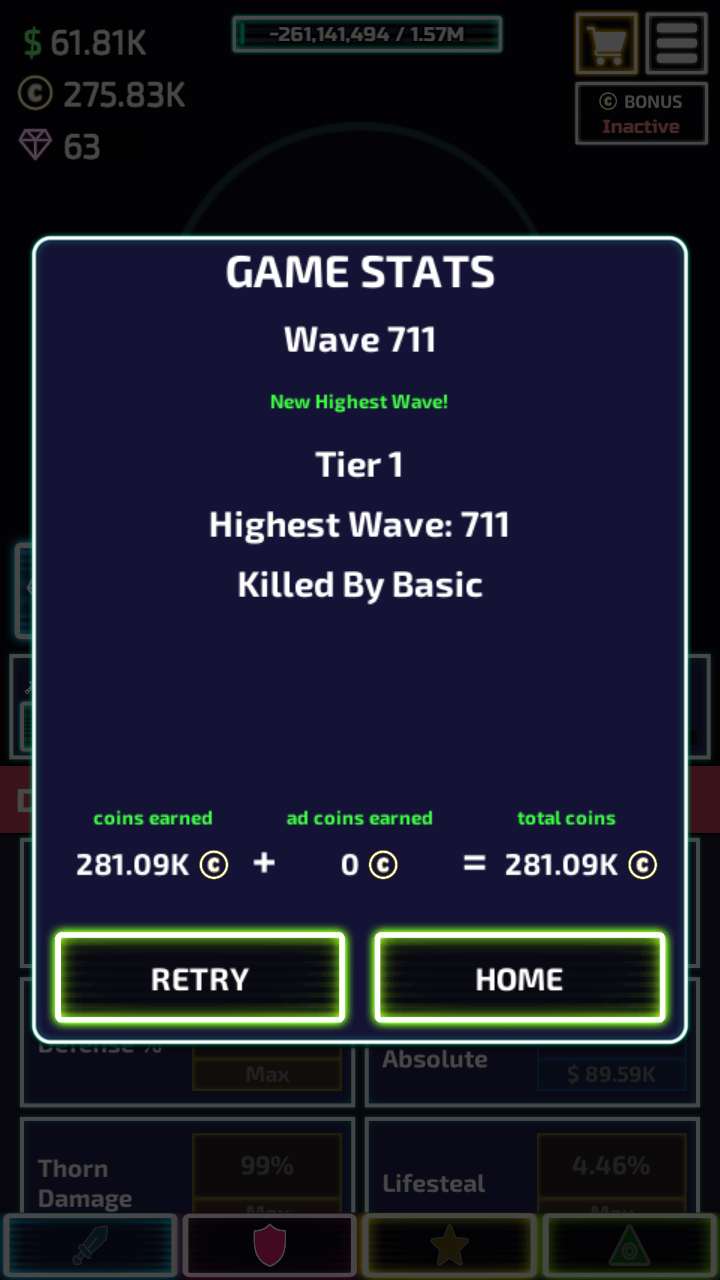B_Game_Over_Home: (372, 920, 666, 1027)
B_Game_Over_Retry: (53, 926, 347, 1022)
B_Gem_Ad: (7, 532, 36, 643)
B_Menu_Closed: (575, 12, 705, 73)
B_Slot: (363, 1114, 698, 1211), (21, 1123, 347, 1211), (365, 1034, 703, 1106), (16, 1038, 356, 1106)
B_Slot_Button: (536, 1138, 689, 1209), (190, 1138, 344, 1205), (534, 1034, 676, 1095), (187, 1043, 347, 1091)
B_Slot_Label: (28, 1152, 148, 1212), (369, 1164, 495, 1205), (370, 1040, 495, 1077)
B_Slot_Maxed: (185, 1139, 347, 1207), (531, 1139, 691, 1207), (185, 1043, 351, 1106)
B_Slot_Price: (547, 1057, 668, 1093)
B_Slot_Value: (207, 1141, 313, 1191), (548, 1146, 673, 1182)
B_Tab_Defense: (2, 771, 37, 831), (682, 766, 712, 835)
